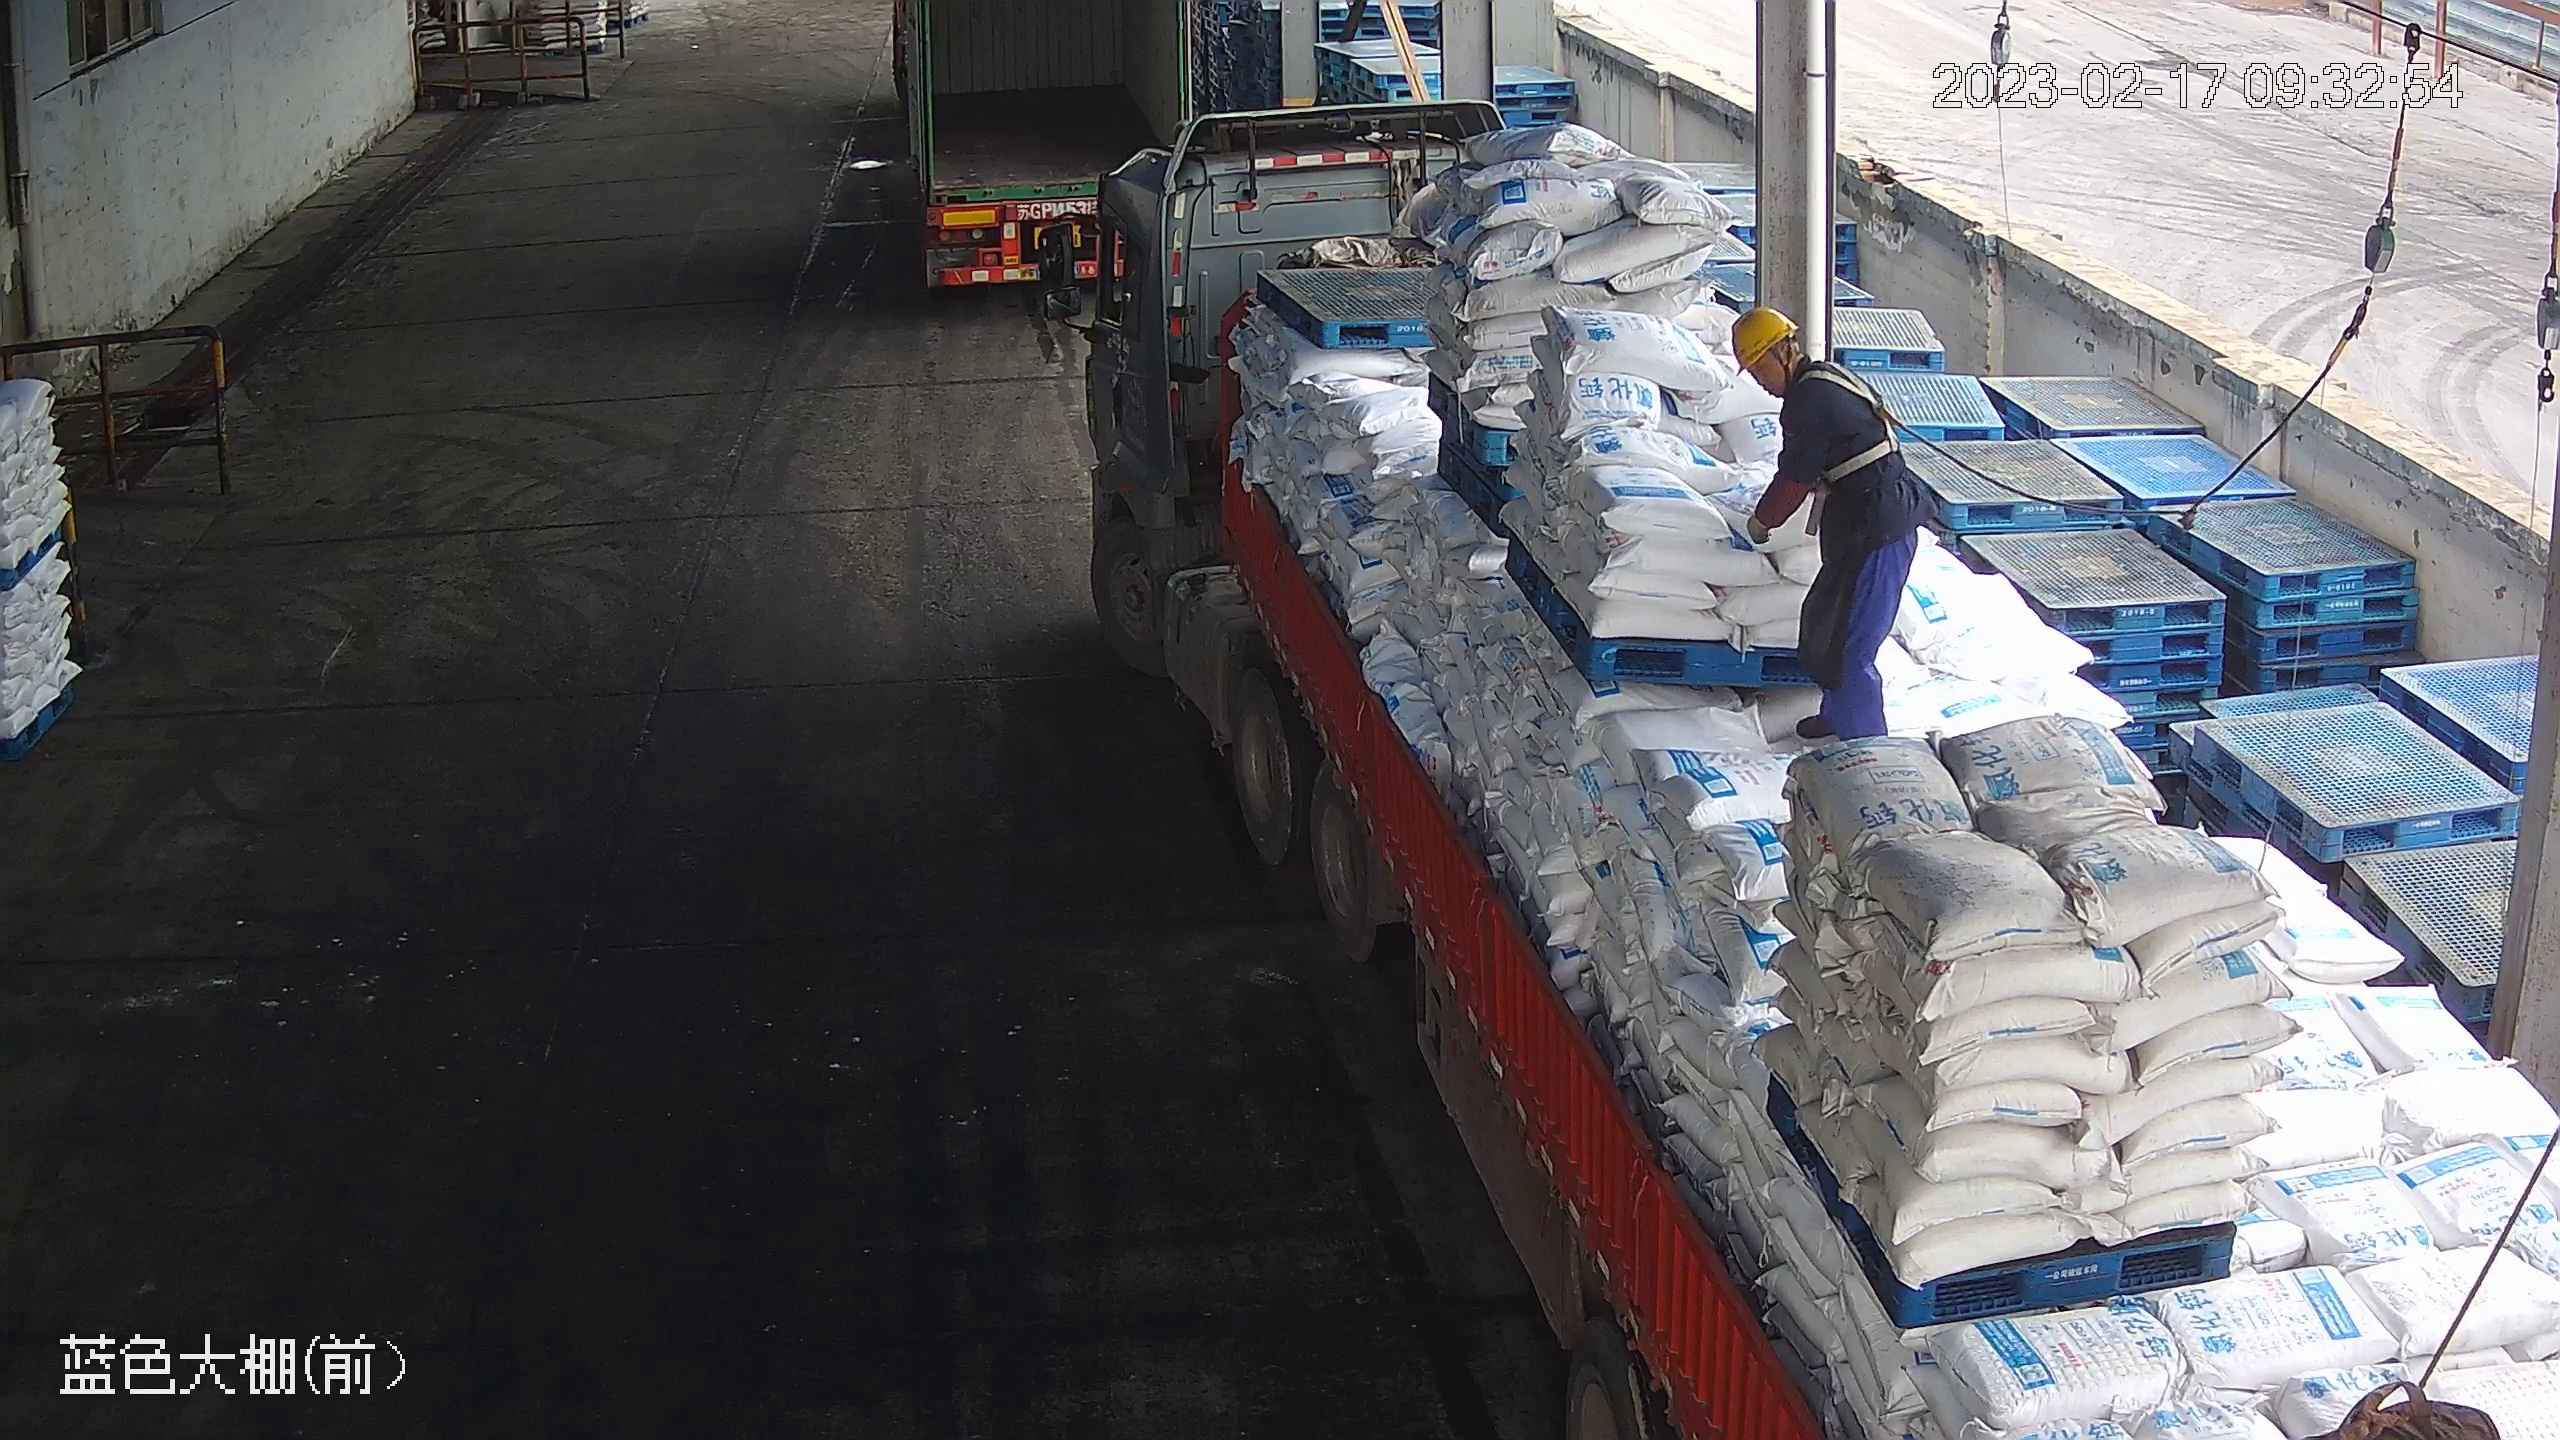belt: (1805, 357, 1905, 485)
head: (1729, 305, 1881, 434)
helmet: (1727, 306, 1798, 373)
people: (1730, 306, 1924, 746)
truck: (1045, 145, 2554, 1440), (883, 1, 1195, 294)
